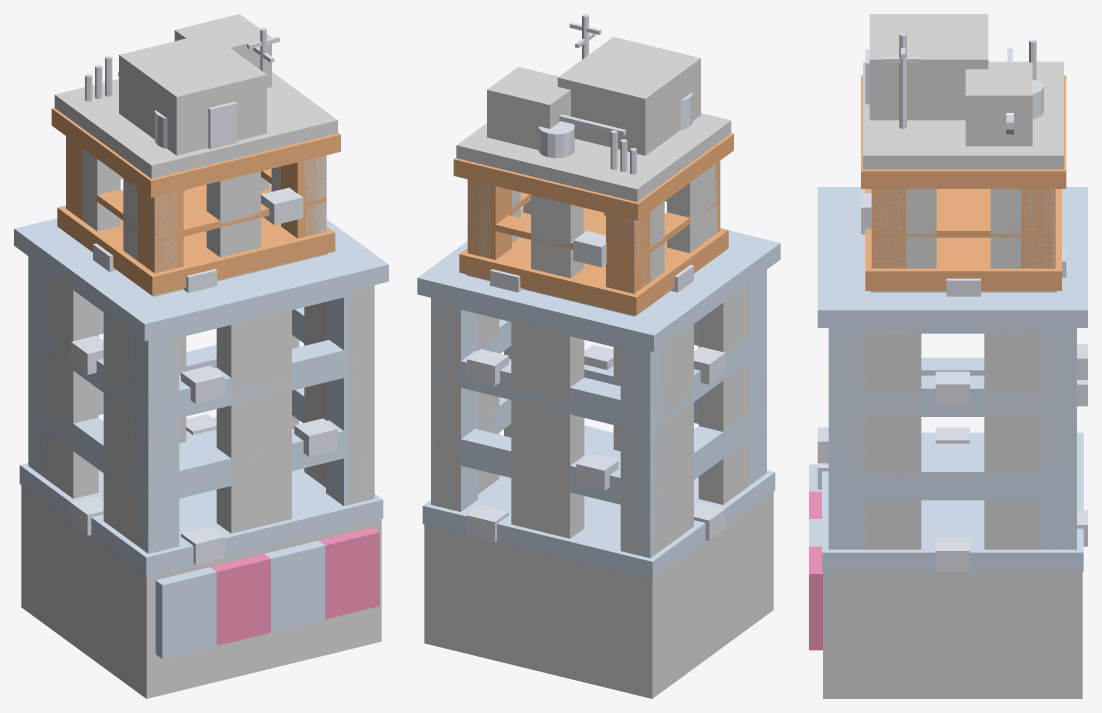
Rendered from office-slab-b.glb.
The picture shows the model from 3 angles, left to right: view 1: azimuth 30°, elevation 25°; view 2: azimuth 150°, elevation 25°; view 3: azimuth 270°, elevation 25°; orthographic projection. The views are drawn at different scales.
Visible parts, largest first — view 1: office slab b podium, office slab b cornice, office slab b pier.001, office slab b lift overrun, office slab b plinth, office slab b corner.001, office slab b parapet, office slab b pier.009, office slab b upper plinth, office slab b pier.008, office slab b pier.007, office slab b upper cornice (+35 smaller); view 2: office slab b podium, office slab b pier.004, office slab b cornice, office slab b lift overrun, office slab b pier.009, office slab b plinth, office slab b parapet, office slab b corner, office slab b upper plinth, office slab b pier.008, office slab b pier.006, office slab b upper cornice (+29 smaller); view 3: office slab b podium, office slab b cornice, office slab b pier.007, office slab b pier.006, office slab b lift overrun, office slab b plinth, office slab b parapet, office slab b upper plinth, office slab b corner.003, office slab b corner.002, office slab b stair bulkhead, office slab b upper cornice (+23 smaller).
Part boxes in pixels (bbox=[...]): office slab b podium: bbox=[21, 485, 381, 698]; office slab b cornice: bbox=[14, 183, 388, 340]; office slab b pier.001: bbox=[216, 305, 291, 533]; office slab b lift overrun: bbox=[119, 33, 266, 155]; office slab b plinth: bbox=[19, 417, 383, 576]; office slab b corner.001: bbox=[130, 331, 179, 553]; office slab b parapet: bbox=[54, 72, 337, 178]; office slab b pier.009: bbox=[28, 269, 98, 498]; office slab b upper plinth: bbox=[57, 184, 335, 295]; office slab b pier.008: bbox=[103, 312, 173, 553]; office slab b pier.007: bbox=[304, 285, 374, 504]; office slab b upper cornice: bbox=[51, 108, 340, 197]; office slab b podium: bbox=[424, 492, 773, 698]; office slab b pier.004: bbox=[511, 317, 584, 538]; office slab b cornice: bbox=[417, 206, 780, 351]; office slab b lift overrun: bbox=[557, 37, 700, 155]; office slab b pier.009: bbox=[626, 323, 693, 557]; office slab b plinth: bbox=[422, 425, 775, 579]; office slab b parapet: bbox=[456, 113, 731, 201]; office slab b corner: bbox=[620, 342, 667, 557]; office slab b upper plinth: bbox=[459, 207, 728, 315]; office slab b pier.008: bbox=[698, 283, 766, 504]; office slab b pier.006: bbox=[431, 298, 499, 510]; office slab b upper cornice: bbox=[453, 133, 733, 220]; office slab b podium: bbox=[823, 572, 1082, 698]; office slab b cornice: bbox=[817, 187, 1087, 327]; office slab b pier.007: bbox=[829, 328, 921, 549]; office slab b pier.006: bbox=[984, 328, 1076, 549]; office slab b lift overrun: bbox=[869, 14, 988, 120]; office slab b plinth: bbox=[822, 432, 1083, 571]; office slab b parapet: bbox=[863, 61, 1063, 169]; office slab b upper plinth: bbox=[865, 189, 1061, 290]; office slab b corner.003: bbox=[828, 328, 865, 549]; office slab b corner.002: bbox=[1040, 328, 1076, 549]; office slab b stair bulkhead: bbox=[965, 62, 1032, 146]; office slab b upper cornice: bbox=[861, 75, 1066, 188].
Size of the model in its own units: 2.7 by 6.38 by 2.58.
